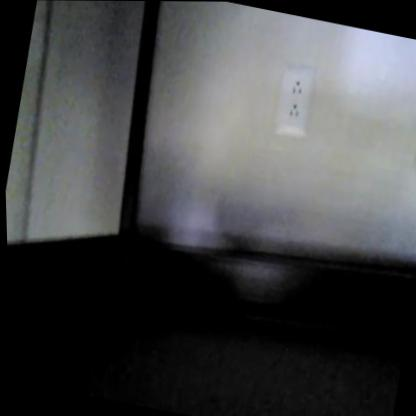OUTLET: (272, 67, 317, 138)
